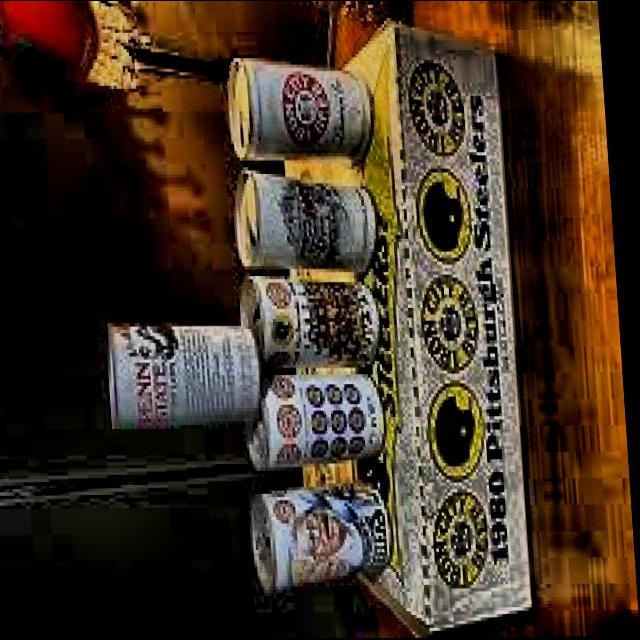Aluminum Can: (100, 320, 271, 428), (245, 476, 398, 594), (226, 52, 383, 165), (233, 165, 388, 277), (233, 270, 388, 370), (240, 370, 392, 468)
